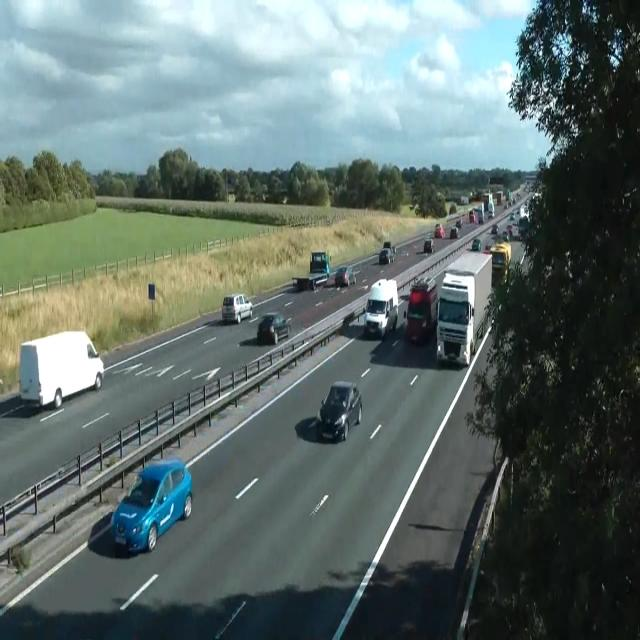bus: (316, 380, 362, 442), (257, 312, 291, 345), (334, 265, 356, 287), (423, 233, 435, 253), (379, 248, 394, 264), (434, 223, 444, 238), (472, 238, 482, 252), (519, 204, 528, 218), (449, 227, 458, 238), (502, 229, 510, 241), (491, 224, 498, 234), (456, 218, 462, 228), (509, 212, 515, 222)
jeep: (110, 458, 192, 554), (403, 275, 437, 344), (364, 278, 398, 340), (221, 292, 253, 324), (489, 240, 511, 273), (310, 250, 330, 276)
minibus: (18, 329, 104, 410), (436, 250, 492, 366), (292, 250, 331, 290), (469, 203, 484, 224), (483, 191, 495, 217)
